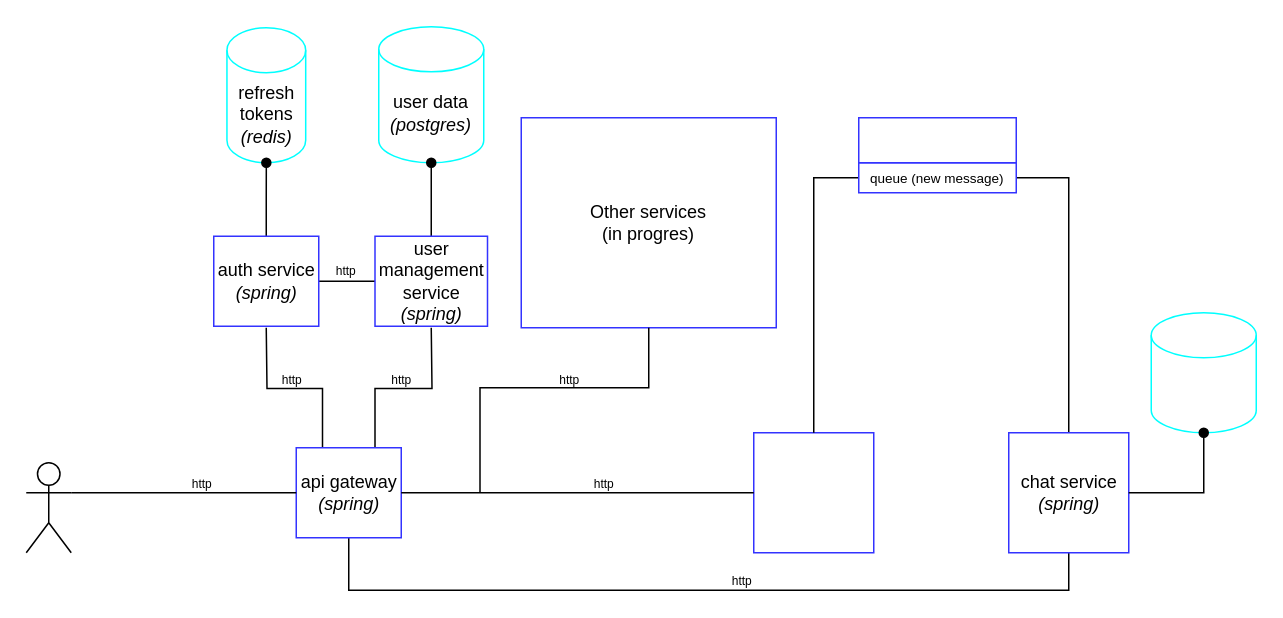
This 1283x618 diagram has some shape labels left out. The box of each missing label's shape, as (x1, y1, x2, y2) in pixels:
client: (25, 461, 71, 553)
messages (cassandra): (1150, 311, 1256, 433)
messege queue (rabbitmq): (857, 116, 1016, 163)
sse service (spring): (752, 431, 874, 553)
